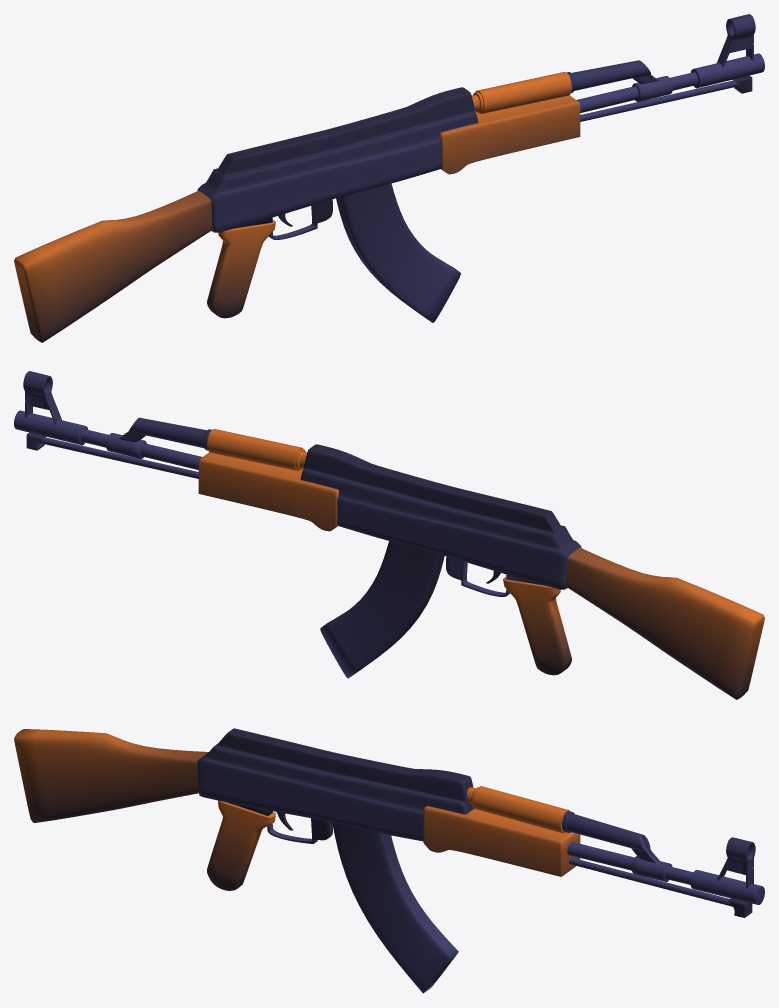
3 renders of one model, top to bottom at view 1: azimuth 30°, elevation 25°; view 2: azimuth 150°, elevation 25°; view 3: azimuth 330°, elevation 25°, orthographic.
Visible parts, largest first — view 1: AK47 Stock, AK47 Shoulder Support, AK47 Shell, Cube.001, AK47 Handle, AK47 Barrel, AK47 Cylinder, AK47 Cylinder.001, AK47 Aim, AK47 Small Support, AK47 Something; view 2: AK47 Stock, AK47 Shoulder Support, AK47 Shell, Cube.001, AK47 Handle, AK47 Barrel, AK47 Cylinder, AK47 Cylinder.001, AK47 Aim, AK47 Small Support, AK47 Something; view 3: AK47 Stock, AK47 Shoulder Support, AK47 Shell, Cube.001, AK47 Handle, AK47 Barrel, AK47 Cylinder, AK47 Cylinder.001, AK47 Small Support, AK47 Aim, AK47 Something.
Part boxes in pixels (bbox=[...]): AK47 Stock: bbox=[197, 87, 478, 232]; AK47 Shoulder Support: bbox=[14, 190, 212, 342]; AK47 Shell: bbox=[336, 183, 460, 322]; Cube.001: bbox=[440, 95, 580, 174]; AK47 Handle: bbox=[207, 220, 275, 318]; AK47 Barrel: bbox=[576, 53, 764, 112]; AK47 Cylinder: bbox=[475, 72, 571, 113]; AK47 Cylinder.001: bbox=[566, 60, 659, 92]; AK47 Aim: bbox=[717, 14, 755, 67]; AK47 Small Support: bbox=[580, 80, 739, 121]; AK47 Something: bbox=[269, 199, 332, 239]; AK47 Stock: bbox=[300, 444, 581, 589]; AK47 Shoulder Support: bbox=[566, 547, 764, 699]; AK47 Shell: bbox=[320, 541, 444, 678]; Cube.001: bbox=[198, 452, 338, 531]; AK47 Handle: bbox=[503, 577, 571, 675]; AK47 Barrel: bbox=[14, 410, 202, 469]; AK47 Cylinder: bbox=[207, 429, 303, 470]; AK47 Cylinder.001: bbox=[119, 417, 211, 450]; AK47 Aim: bbox=[23, 371, 61, 424]; AK47 Small Support: bbox=[39, 437, 198, 478]; AK47 Something: bbox=[446, 556, 509, 596]; AK47 Stock: bbox=[197, 728, 474, 841]; AK47 Shoulder Support: bbox=[14, 729, 208, 822]; AK47 Shell: bbox=[332, 822, 458, 993]; Cube.001: bbox=[423, 806, 580, 876]; AK47 Handle: bbox=[207, 800, 275, 890]; AK47 Barrel: bbox=[567, 842, 764, 904]; AK47 Cylinder: bbox=[473, 786, 570, 833]; AK47 Cylinder.001: bbox=[562, 811, 659, 863]; AK47 Small Support: bbox=[569, 857, 732, 906]; AK47 Aim: bbox=[716, 837, 755, 888]; AK47 Something: bbox=[267, 818, 332, 843].
Size of the model in its own units: 488 by 142 by 21.8.
